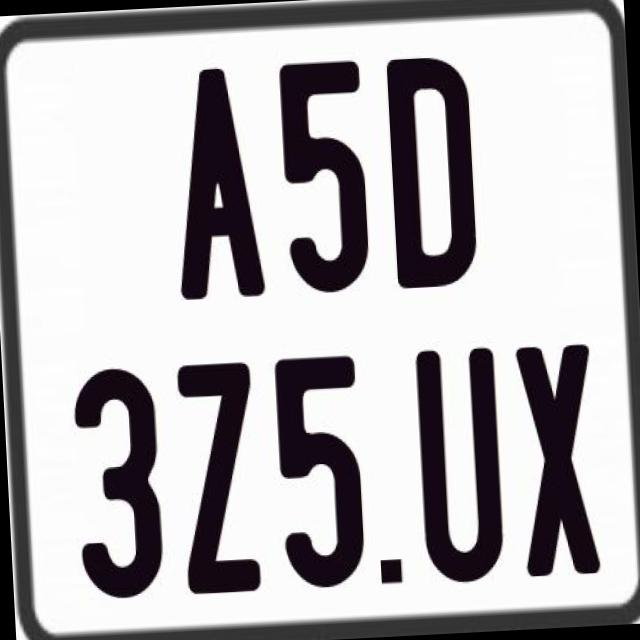3: (70, 367, 168, 602)
5: (274, 56, 370, 292), (274, 352, 368, 588)
A: (167, 64, 266, 302)
D: (385, 56, 480, 295)
U: (414, 346, 509, 587)
X: (516, 341, 604, 575)
Z: (176, 360, 264, 594)
